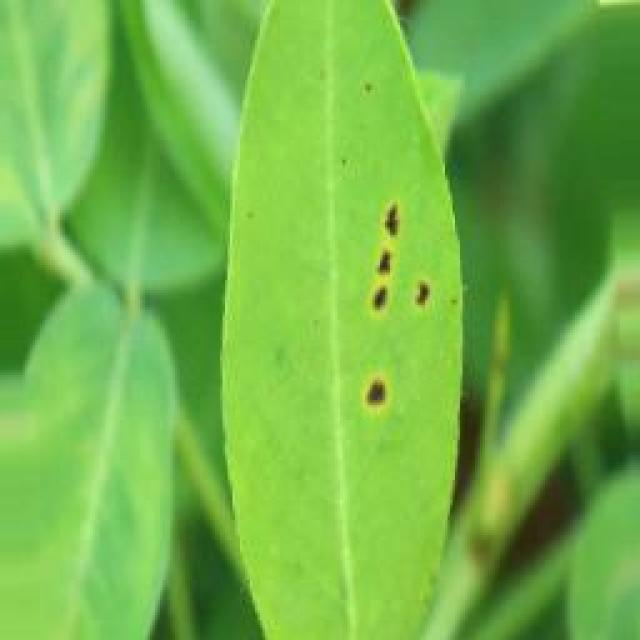Sigatoka: (352, 198, 436, 321), (326, 362, 404, 416)
